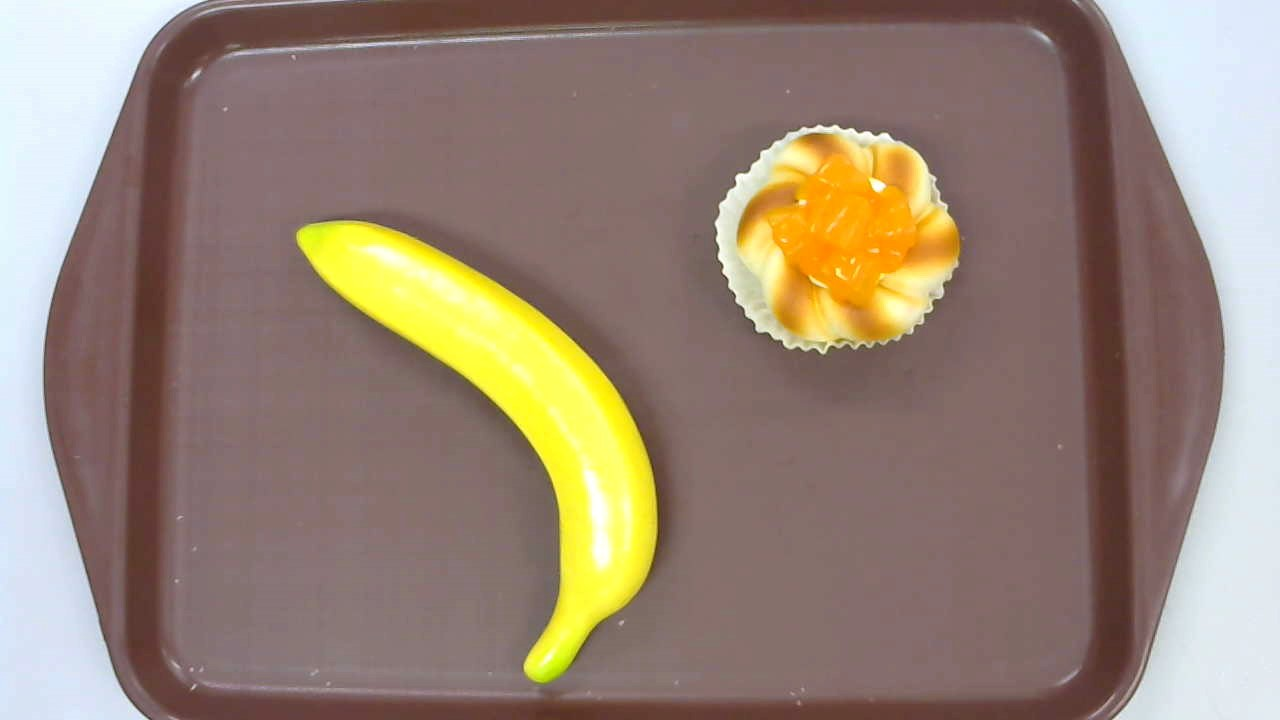banana: (294, 219, 659, 684)
mango tart: (715, 123, 960, 355)
